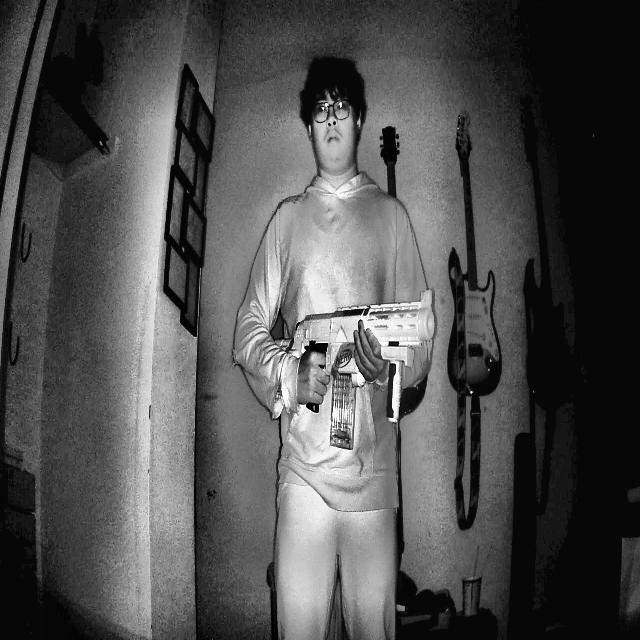Nerf_Blaster: (268, 278, 442, 463)
